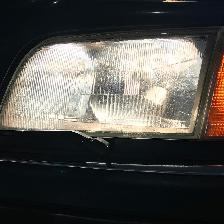head_lamp: (20, 24, 216, 154)
